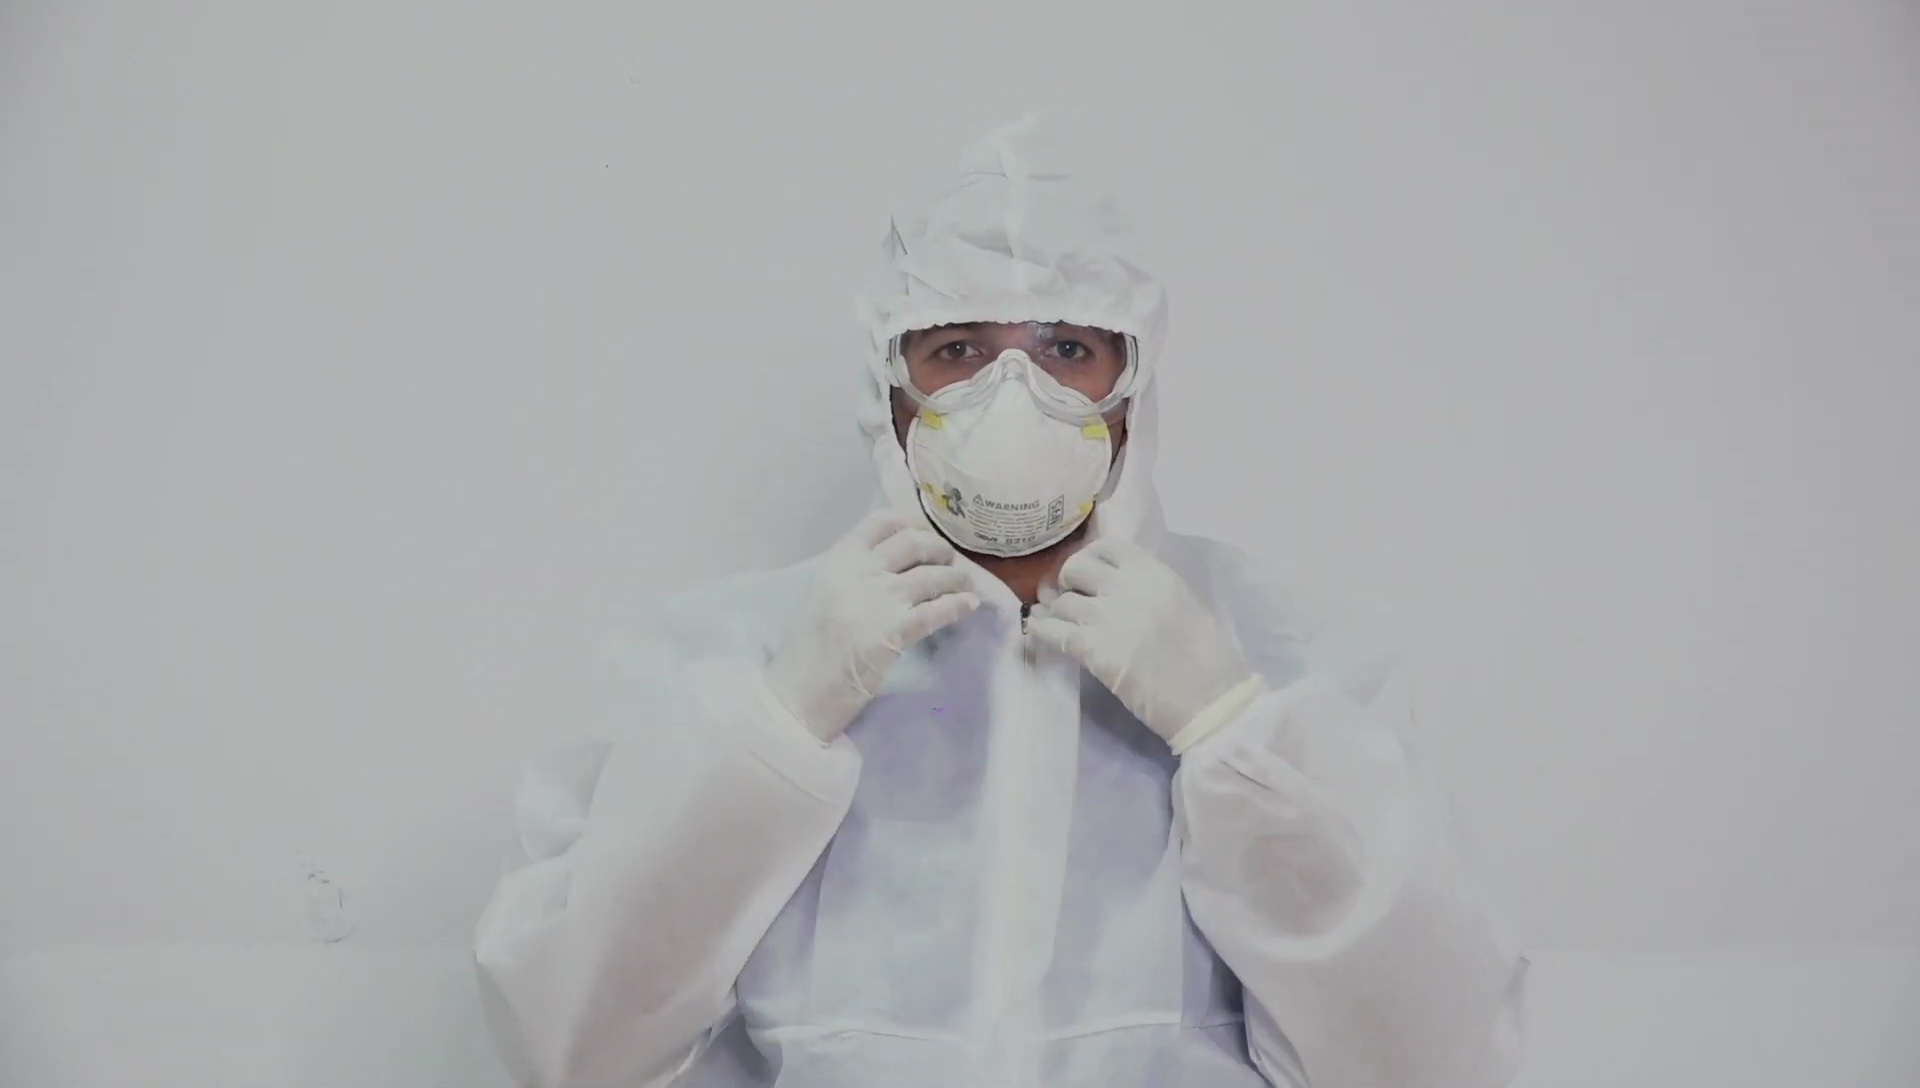Coverall: (470, 117, 1523, 1085)
Gloves: (764, 508, 979, 742), (1025, 540, 1259, 754)
Goggles: (888, 322, 1141, 431)
with_mask: (907, 363, 1112, 558)
